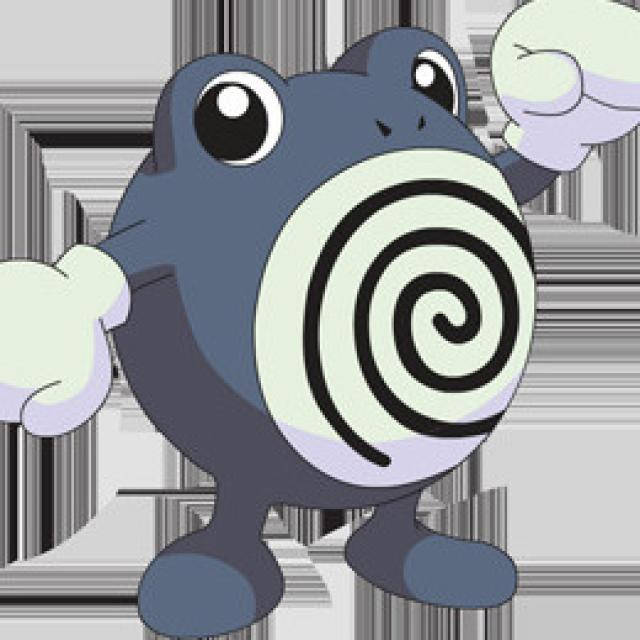Poliwhirl: (57, 24, 564, 628)
